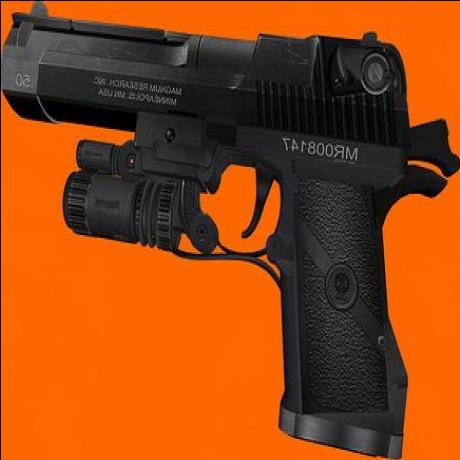weapon: (0, 2, 451, 458)
